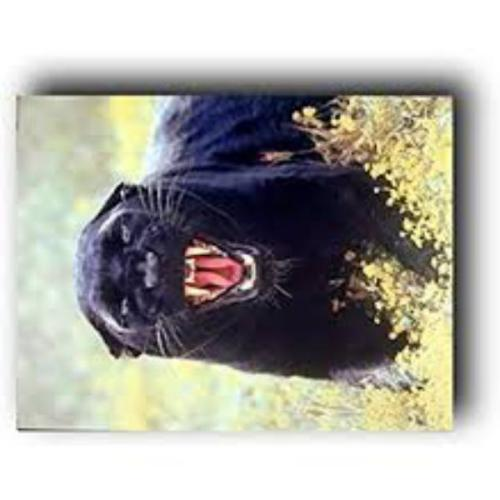panther-endangered: (83, 96, 420, 367)
